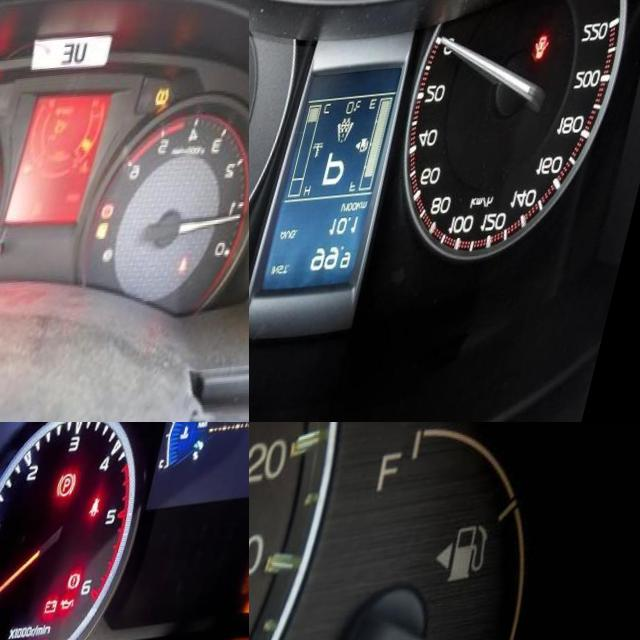Seat Belt: (105, 500, 119, 522)
